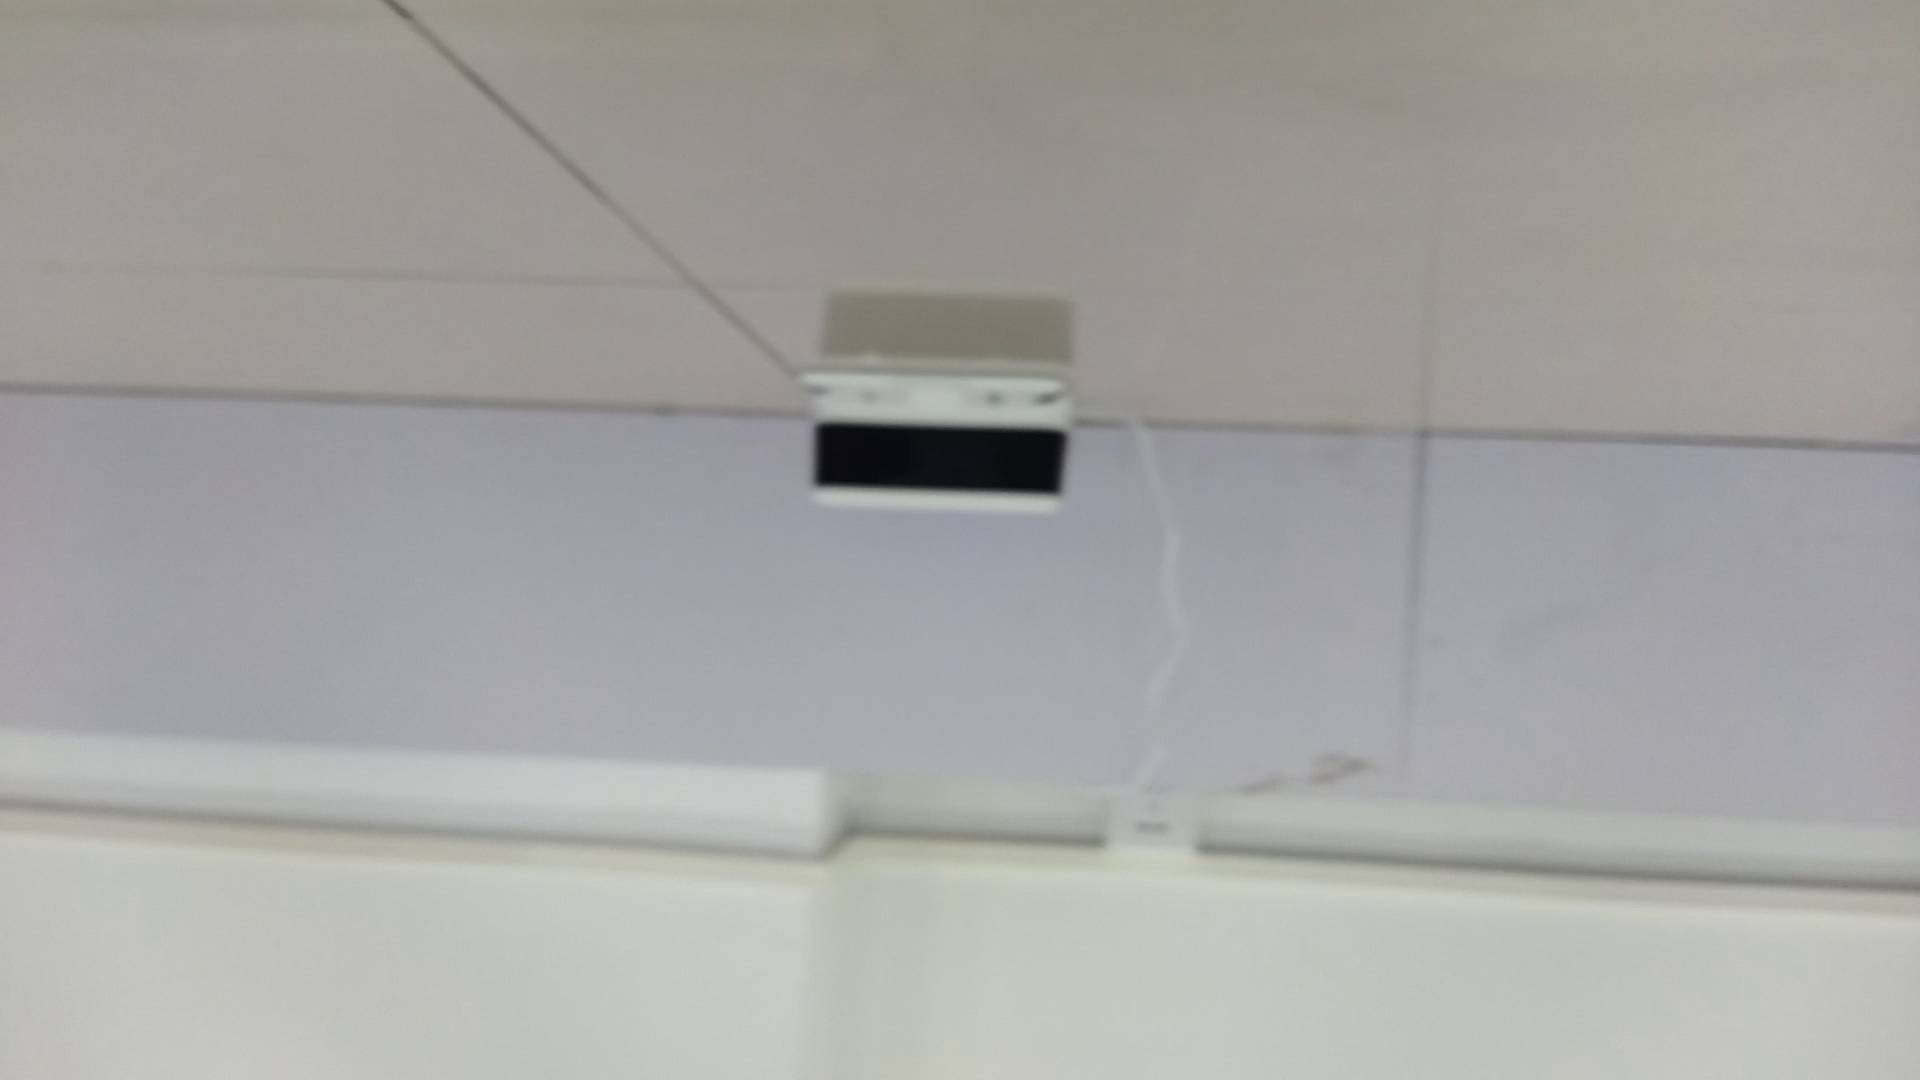recharge seat: (785, 369, 1076, 513)
